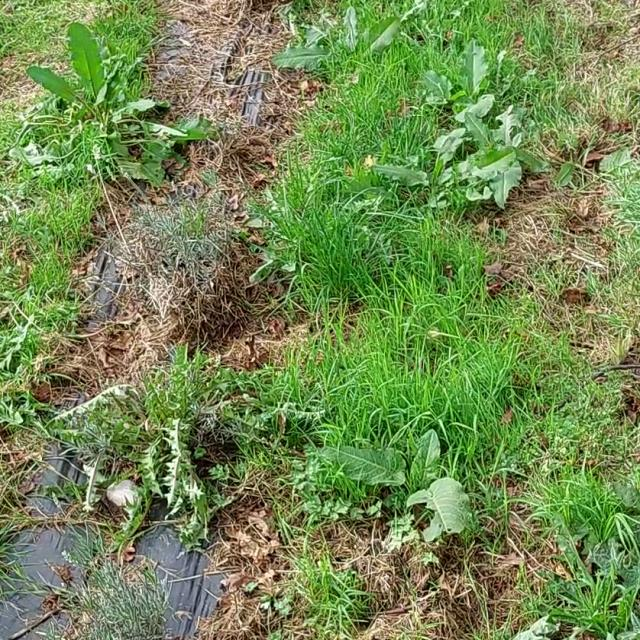organic waste: (297, 404, 529, 573), (12, 22, 203, 184), (368, 40, 548, 138), (257, 8, 435, 105), (406, 113, 556, 218)
